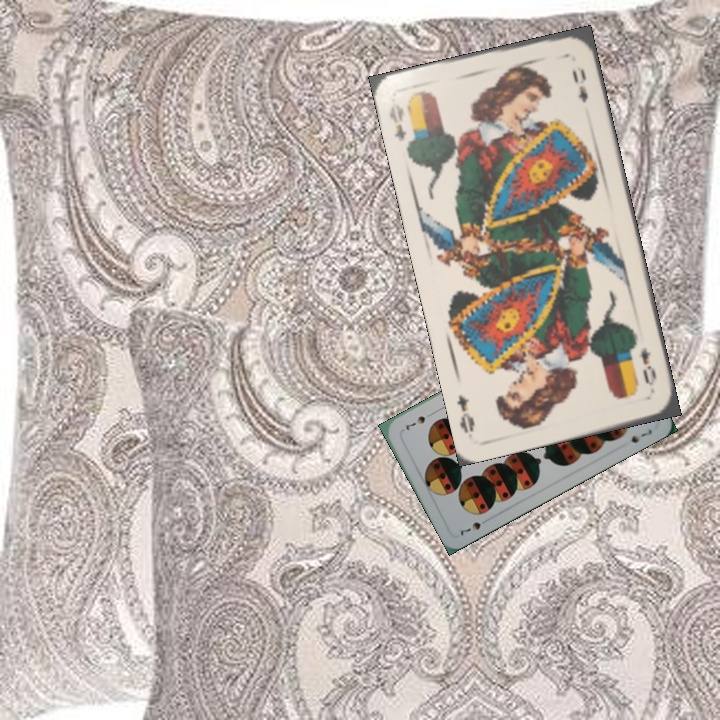EO: (635, 344, 659, 395), (385, 99, 409, 144)
S7: (456, 514, 493, 539)
